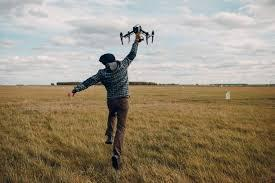drone: (118, 24, 157, 47)
